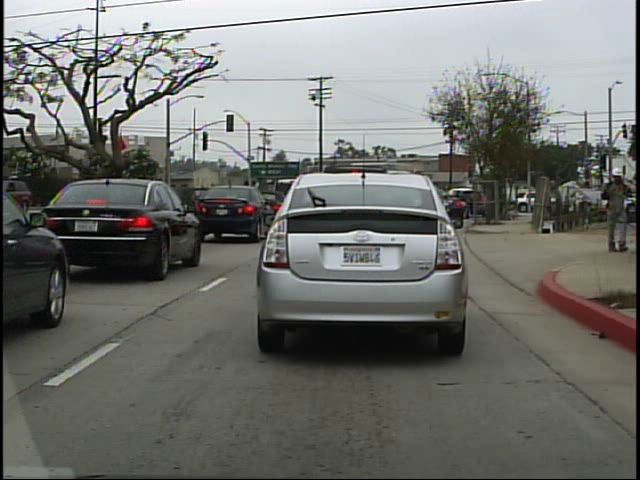person: (603, 158, 637, 262)
